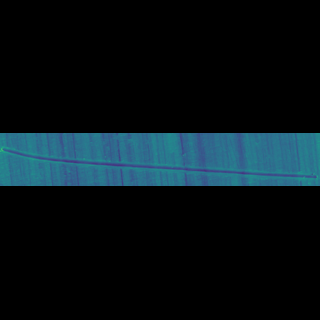Loch: (0, 157, 315, 163)
